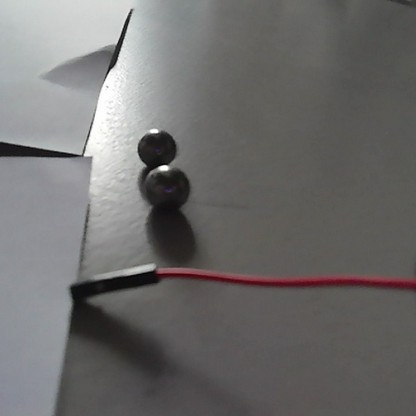ironball: (139, 167, 192, 214), (135, 126, 177, 165)
